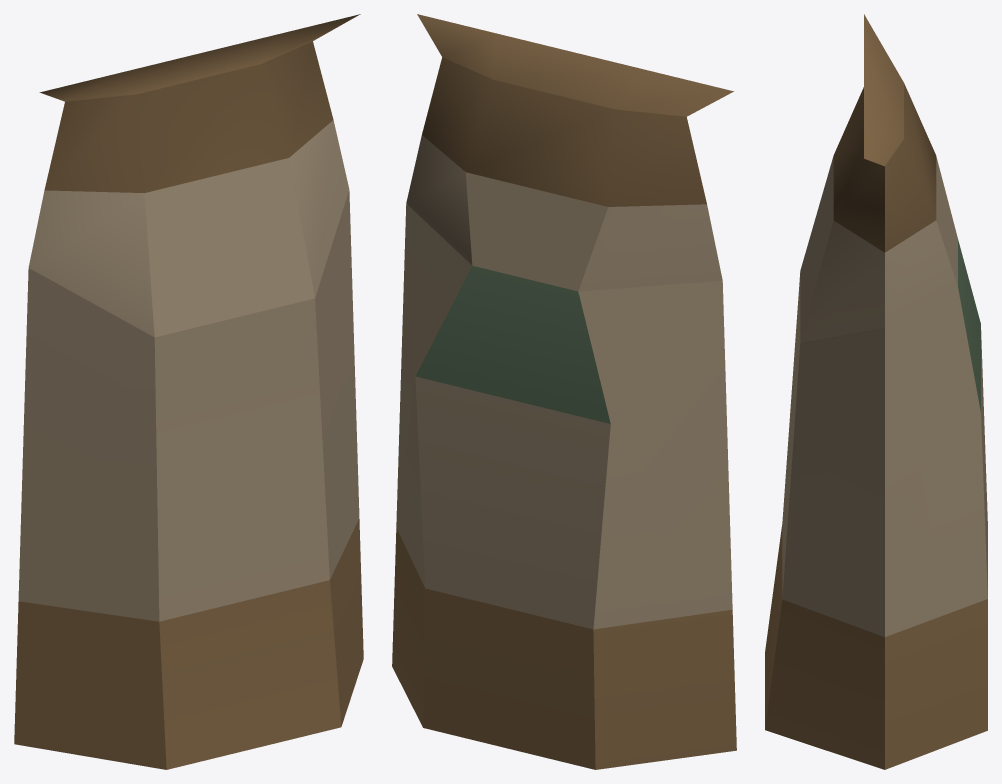
File: coffee_bag.fbx
The picture shows the model from 3 angles, left to right: view 1: azimuth 30°, elevation 25°; view 2: azimuth 150°, elevation 25°; view 3: azimuth 270°, elevation 25°; orthographic projection. The views are drawn at different scales.
Visible parts, largest first — view 1: coffee3; view 2: coffee3; view 3: coffee3.
Boxes of the visible parts, bbox=[...] form: coffee3: bbox=[14, 14, 363, 769]; coffee3: bbox=[392, 14, 736, 769]; coffee3: bbox=[765, 14, 987, 769].
Bounding box in the file's own units: 0.3573 × 0.6414 × 0.214.
